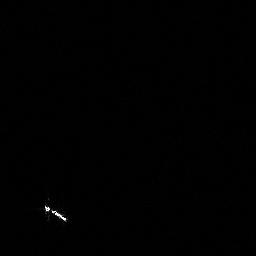ship: (40, 199, 71, 225)
